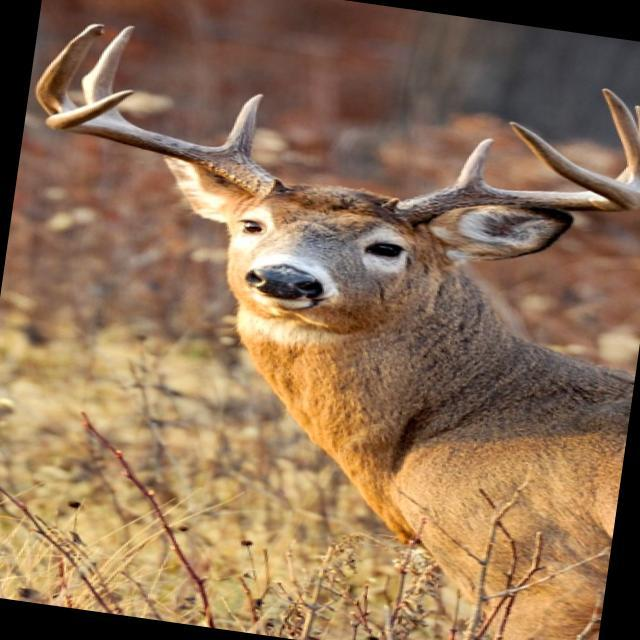L-F: (381, 121, 640, 230)
L-G1: (446, 138, 496, 188)
L-G3: (600, 88, 640, 188)
R-F: (44, 90, 290, 201)
R-G1: (212, 94, 266, 163)
R-G3: (34, 23, 106, 117)
